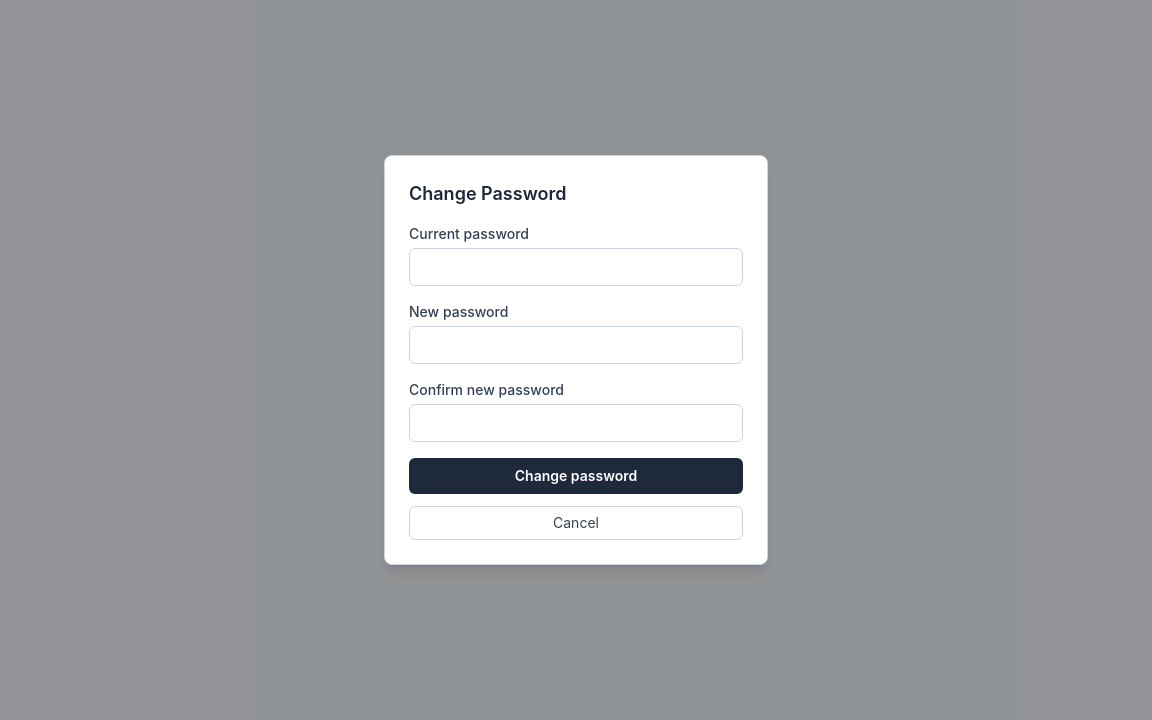
ChangePasswordModal › shows an error when new passwords do not match
Step 1. Type "oldpass123" into the password field labelled "Current password" → (576, 267), box left=409, top=248, right=743, bottom=286
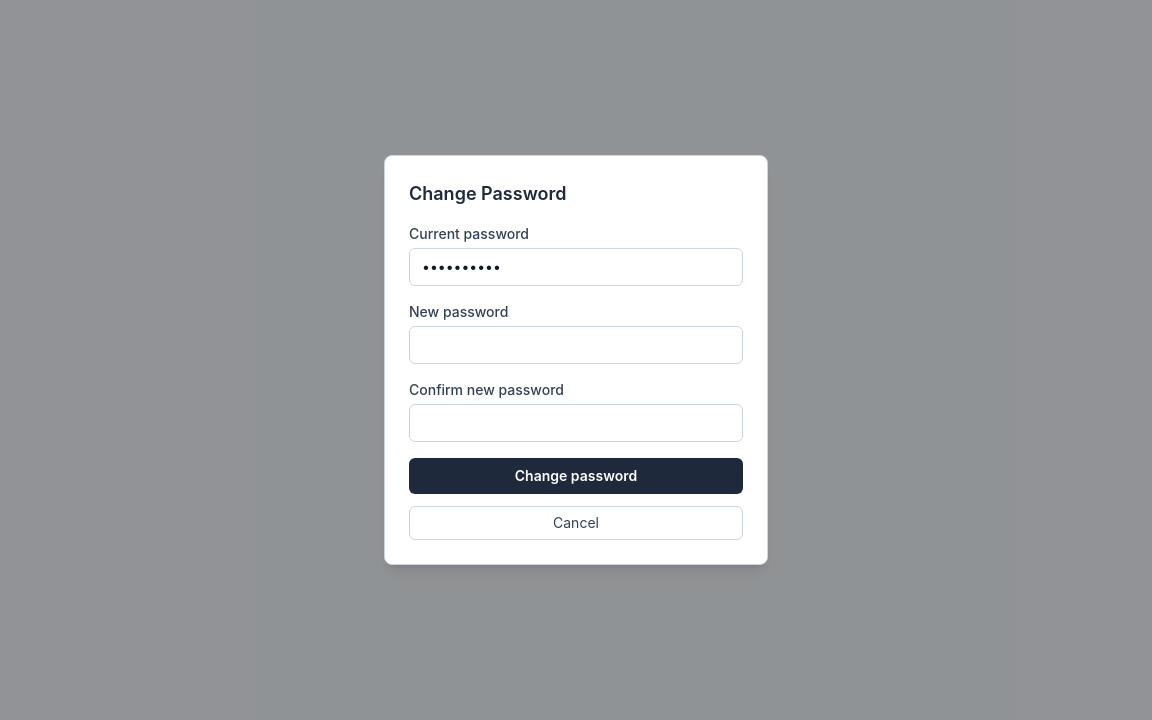
Step 2. Type "newpass123" into the password field labelled "New password" → (576, 345), box left=409, top=326, right=743, bottom=364
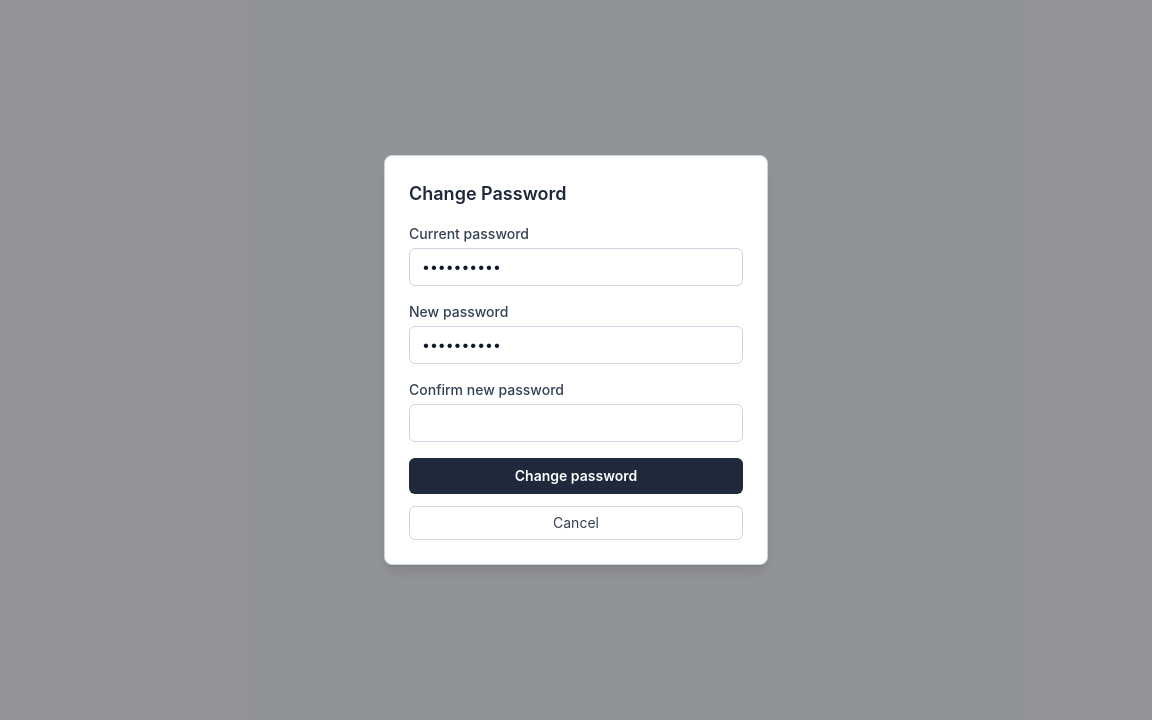
Step 3. Type "different1" into the password field labelled "Confirm new password" → (576, 423), box left=409, top=404, right=743, bottom=442
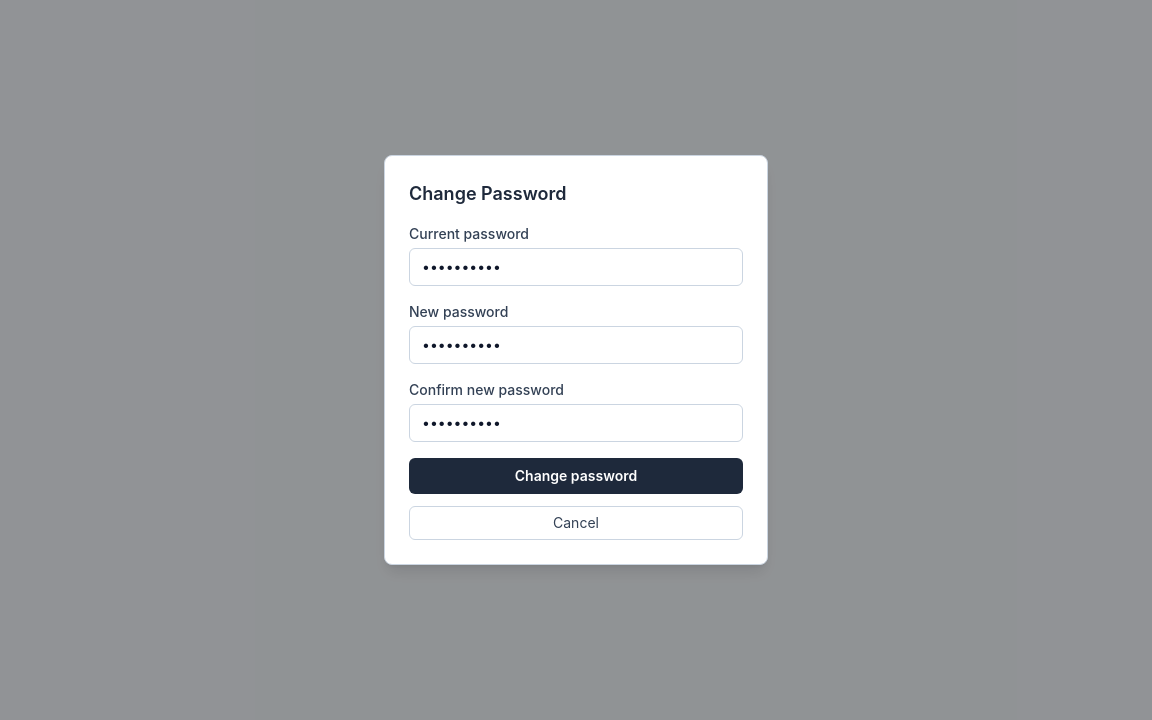
Step 4. Click the button "Change password" → (576, 476), box left=409, top=458, right=743, bottom=494
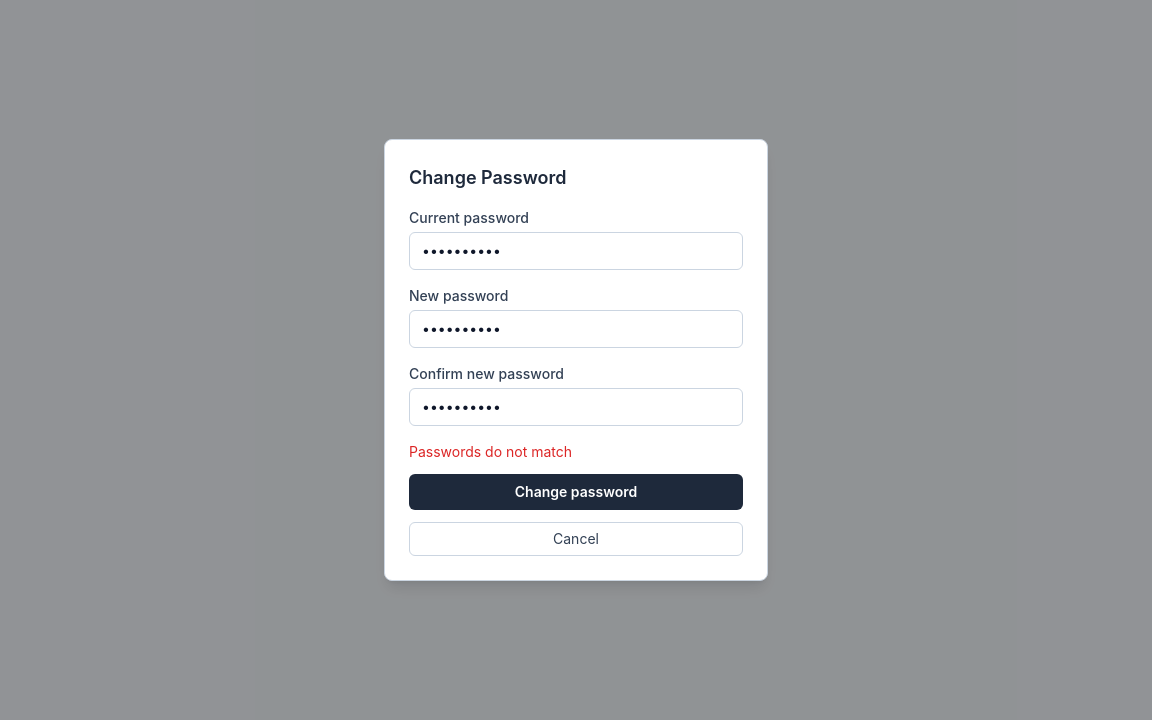
expect the text "Passwords do not match" is shown: met, box left=409, top=443, right=572, bottom=460
